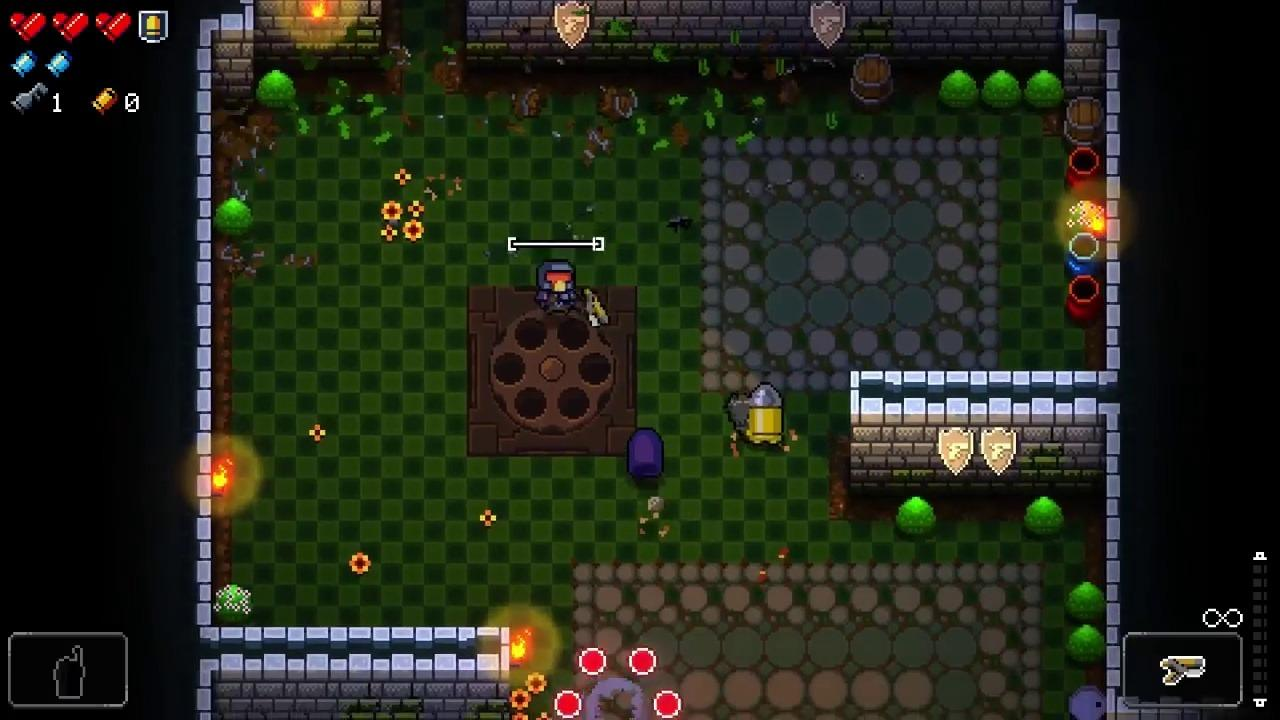bullet_kin: (747, 382, 784, 445)
hollow_bullet: (652, 689, 683, 720), (578, 646, 607, 675), (554, 690, 582, 720), (630, 647, 657, 675)
player: (535, 258, 576, 319)
rubber_kin: (629, 427, 664, 481)
teleporter: (467, 283, 637, 456)
